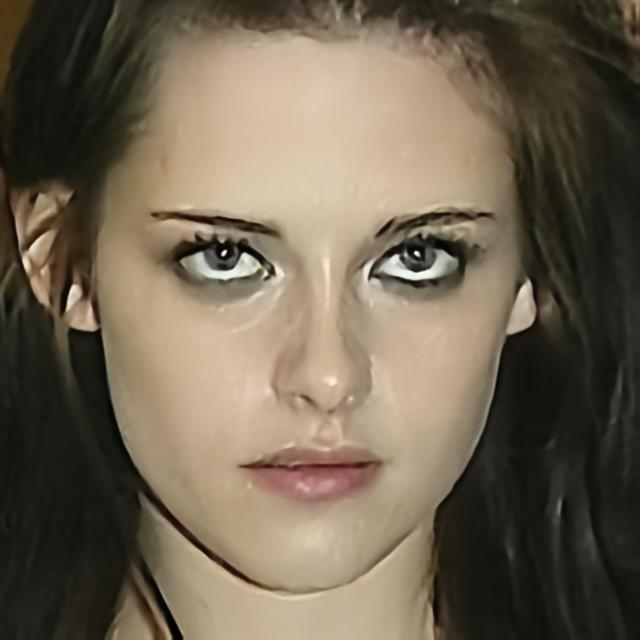neutral: (100, 34, 520, 592)
